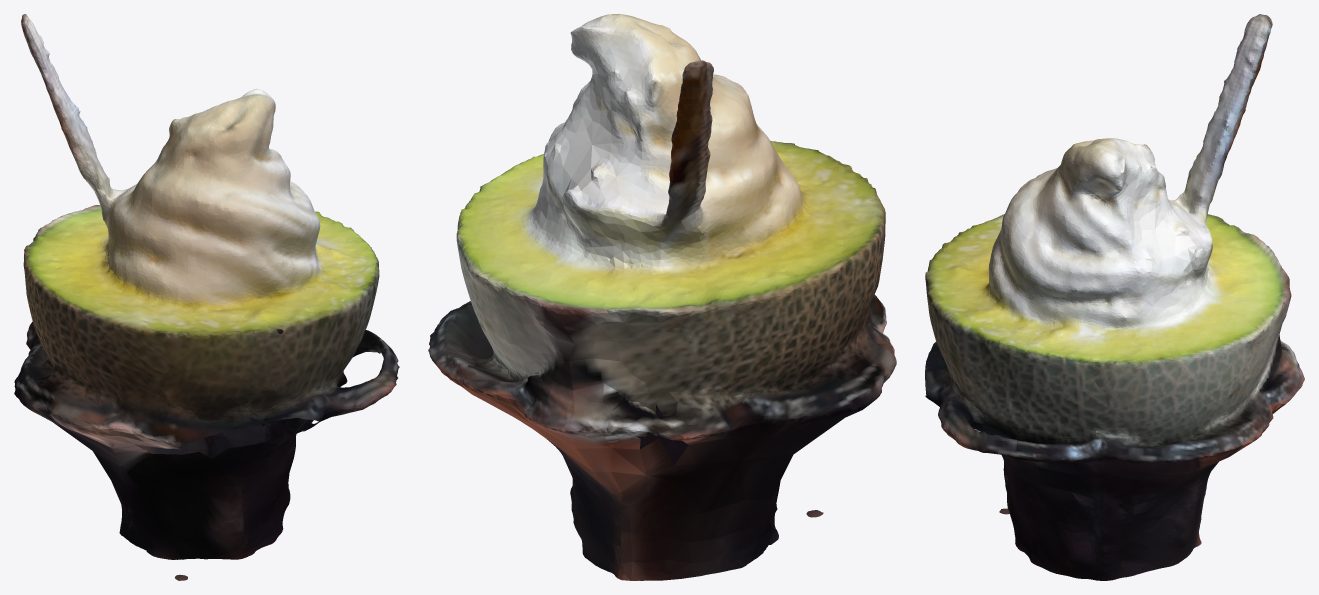
The model's file is Scaniverse_2023_06_12_145318.obj.
3 views of the same model, side by side, from view 1: azimuth 30°, elevation 25°; view 2: azimuth 150°, elevation 25°; view 3: azimuth 270°, elevation 25° (orthographic). The views are drawn at different scales.
Visible parts, largest first — view 1: mesh; view 2: mesh; view 3: mesh.
Boxes of the visible parts, box(x1,y1,x2,y2) form: mesh: box(14, 14, 399, 580); mesh: box(428, 14, 896, 580); mesh: box(925, 14, 1304, 580).
Bounding box in the file's own units: 0.1384 × 0.1886 × 0.1348.
Materials: 1 (1 with a texture image).
